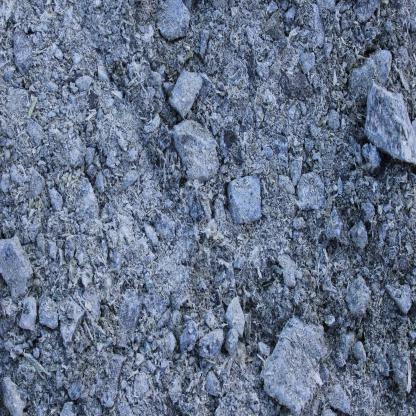stone: (258, 316, 327, 416), (364, 83, 416, 167), (170, 119, 220, 185), (346, 49, 393, 107), (0, 234, 33, 297), (227, 174, 262, 228), (114, 290, 144, 350), (168, 73, 202, 120), (157, 0, 190, 42), (295, 171, 326, 212), (346, 276, 373, 322), (9, 35, 38, 77), (0, 377, 27, 416), (225, 297, 245, 339), (198, 328, 224, 358), (179, 321, 200, 355), (18, 296, 37, 332), (39, 296, 58, 330), (187, 189, 204, 223), (205, 371, 222, 397), (224, 328, 239, 357), (60, 401, 78, 416)
